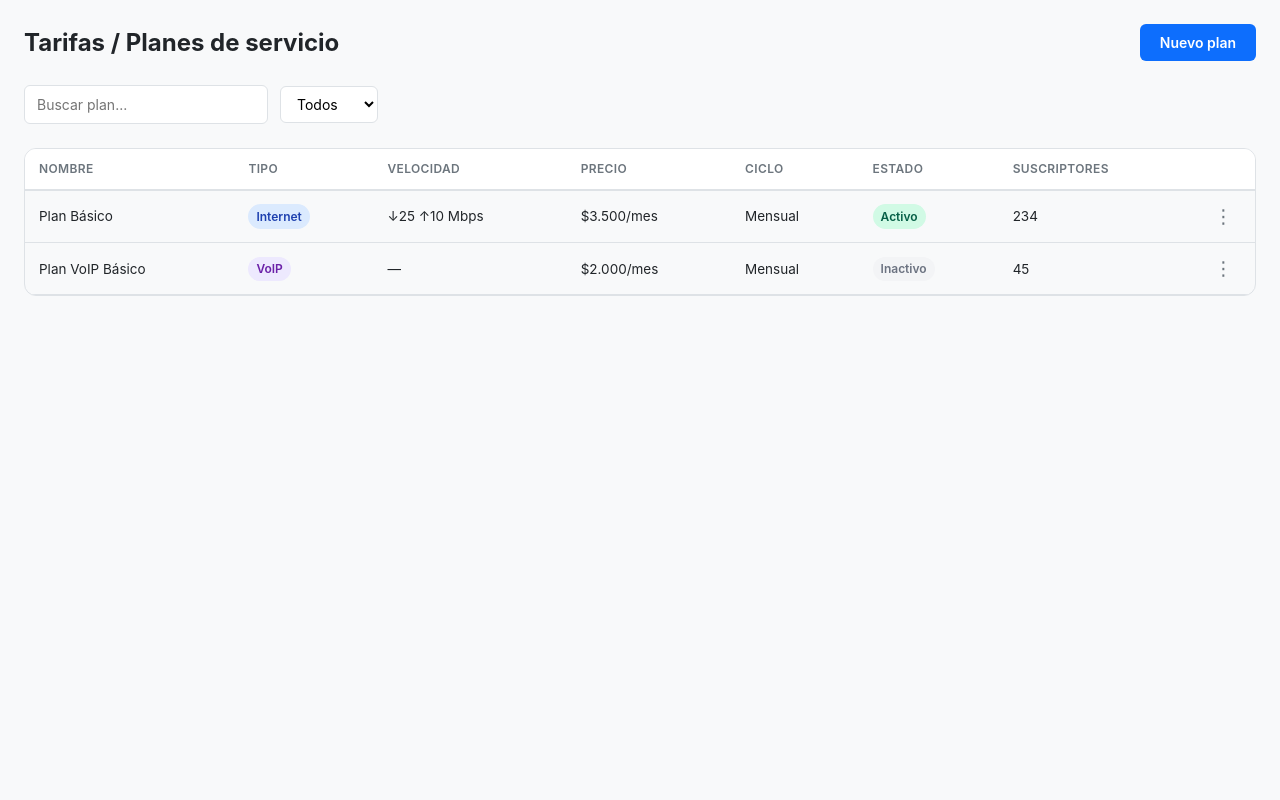
Test case: TariffsPage › clicking "Nuevo plan" shows form
Step 1. Click the button "Nuevo plan" → (1198, 42), box left=1140, top=24, right=1256, bottom=61
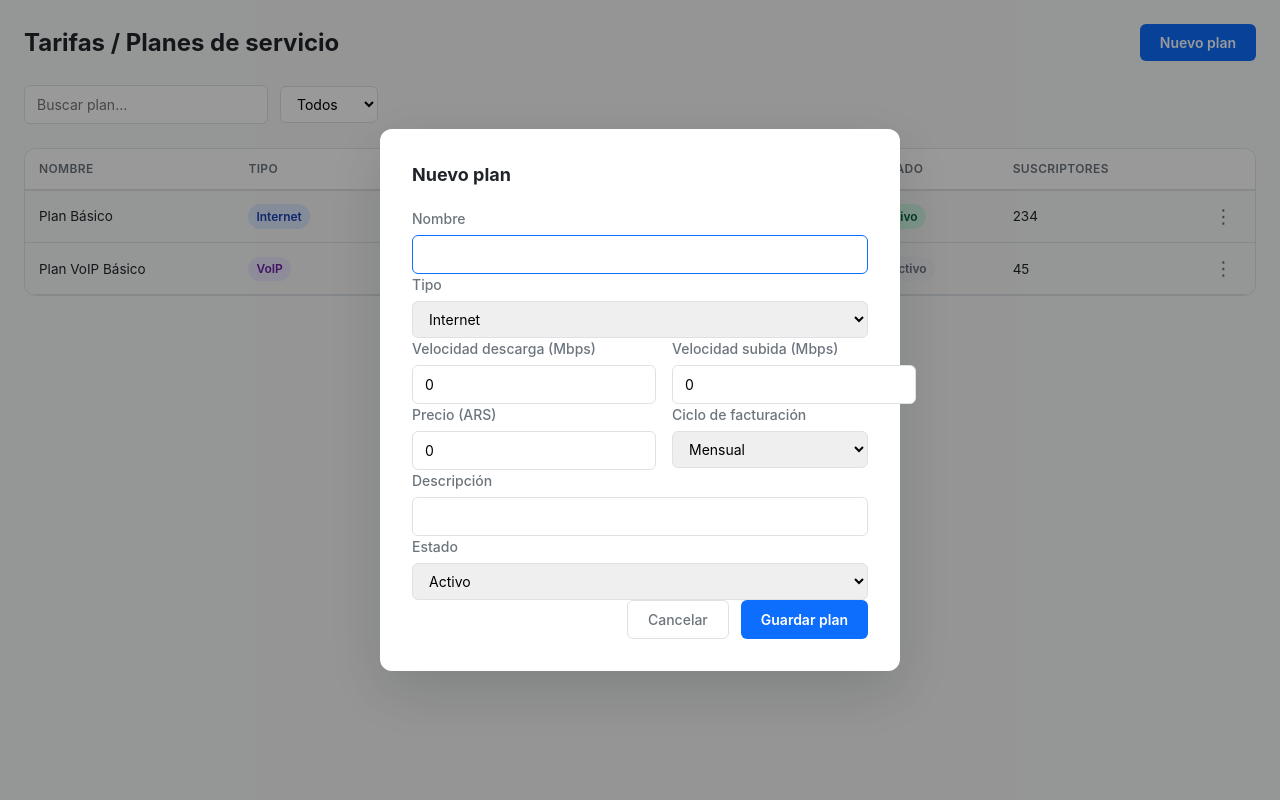
Result: the field labelled "Nombre" is shown at left=412, top=235, right=868, bottom=274
